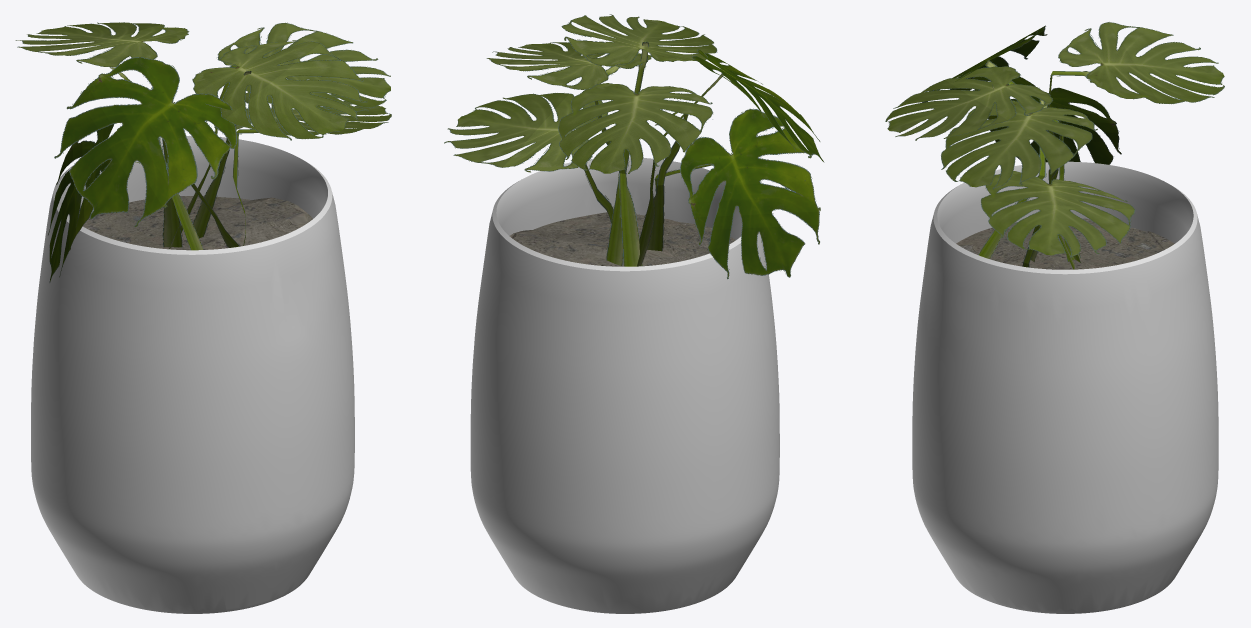
Rendered from plant-monstera.glb.
3 renders of one model, left to right at view 1: azimuth 30°, elevation 25°; view 2: azimuth 150°, elevation 25°; view 3: azimuth 270°, elevation 25°, orthographic. The views are drawn at different scales.
Parts seen in each view (by area): view 1: Circle_POT_0, Plane_Material.001_0, Circle_dirt_0; view 2: Circle_POT_0, Plane_Material.001_0, Circle_dirt_0; view 3: Circle_POT_0, Plane_Material.001_0, Circle_dirt_0.
Part boxes in pixels (bbox=[...]): Circle_POT_0: bbox=[31, 136, 354, 613]; Plane_Material.001_0: bbox=[15, 22, 391, 282]; Circle_dirt_0: bbox=[83, 196, 312, 250]; Circle_POT_0: bbox=[470, 157, 779, 613]; Plane_Material.001_0: bbox=[444, 14, 824, 279]; Circle_dirt_0: bbox=[509, 212, 735, 266]; Circle_POT_0: bbox=[912, 161, 1218, 613]; Plane_Material.001_0: bbox=[885, 22, 1224, 269]; Circle_dirt_0: bbox=[956, 218, 1174, 269].
Size of the model in its own units: 2.01 by 2.82 by 1.82.
Materials: 3 (2 with a texture image).
